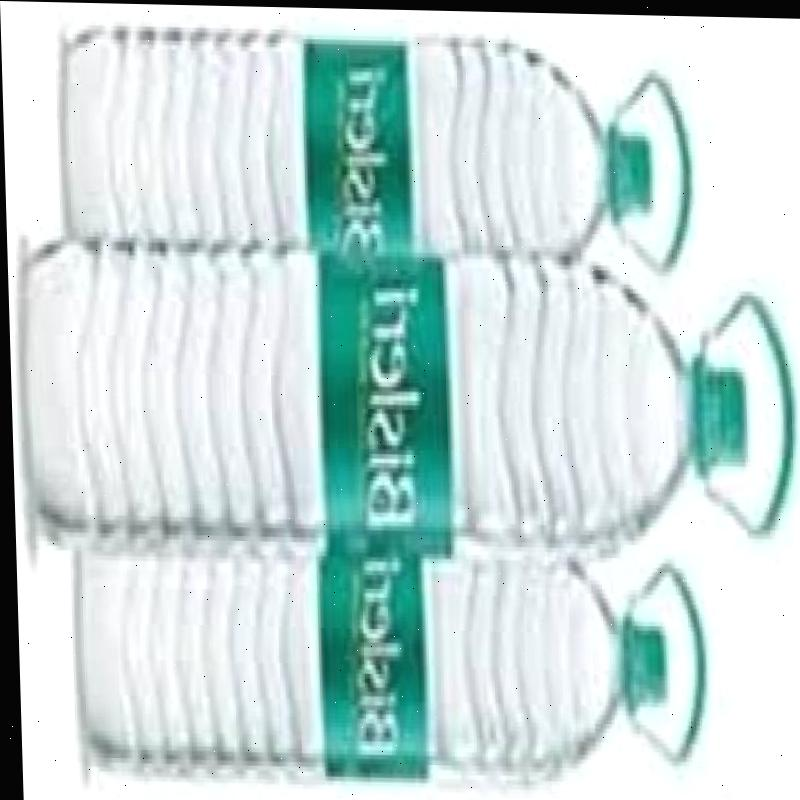botella: (13, 229, 746, 556), (63, 526, 660, 785), (56, 26, 655, 256)
